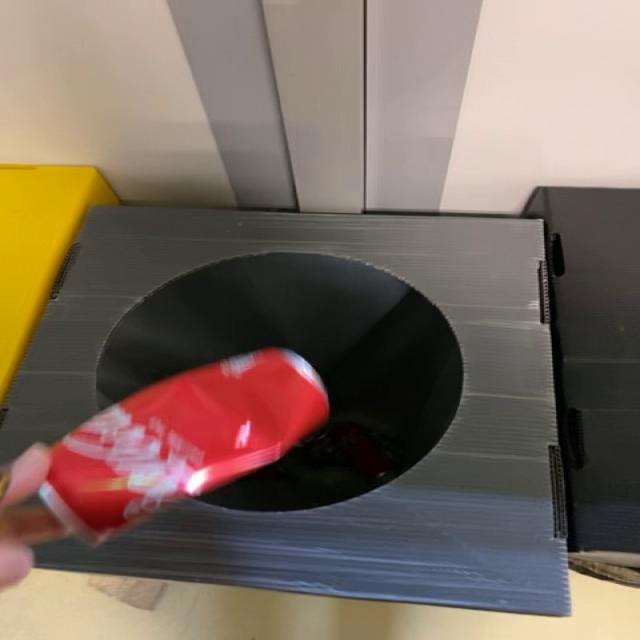bin: (1, 207, 571, 616), (1, 208, 571, 616), (3, 208, 571, 616)
metal: (39, 349, 329, 543)
